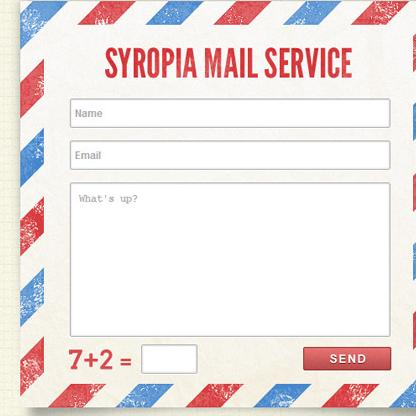button: (302, 346, 392, 371)
field: (70, 182, 391, 336), (69, 98, 391, 129), (70, 140, 391, 170), (140, 344, 198, 374)
